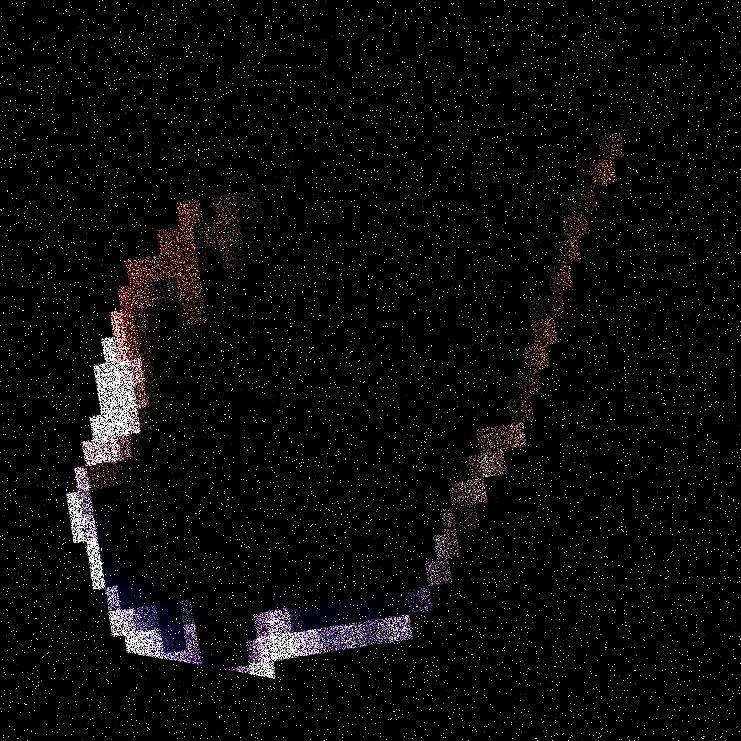Oculos: (156, 0, 493, 740)
